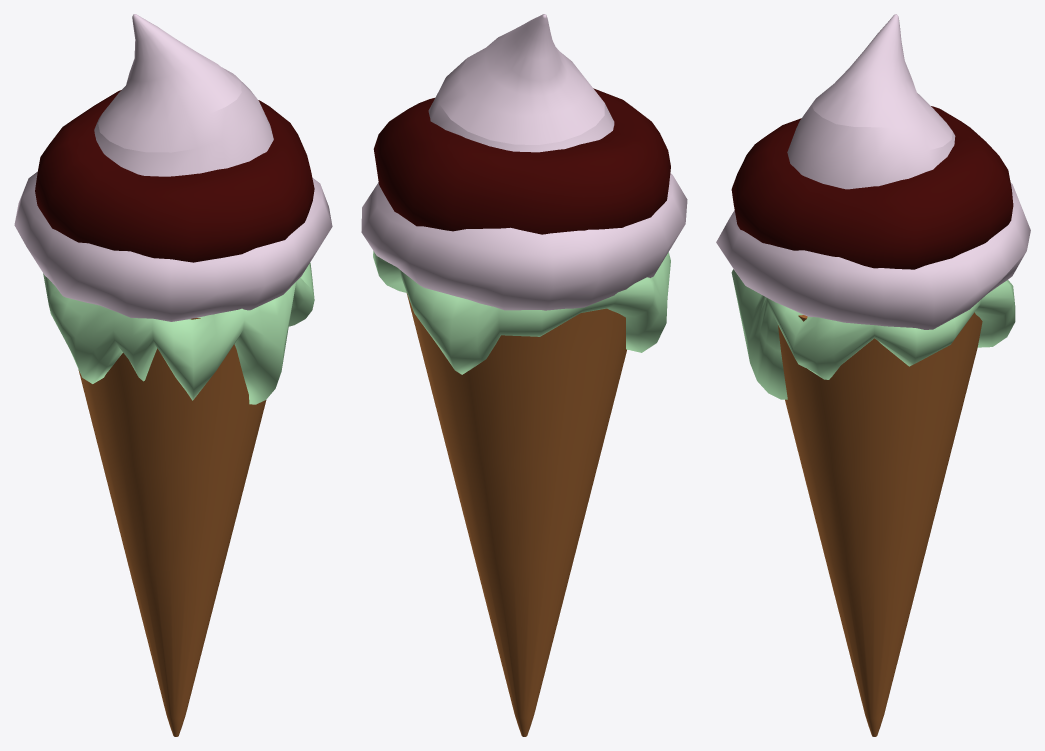
The model's file is icecream.fbx.
The picture shows the model from 3 angles, left to right: view 1: azimuth 30°, elevation 25°; view 2: azimuth 150°, elevation 25°; view 3: azimuth 270°, elevation 25°; orthographic projection. The views are drawn at different scales.
Parts seen in each view (by area): view 1: cornet2; view 2: cornet2; view 3: cornet2.
Part boxes in pixels (box(x1,y1,x2,y2)): cornet2: box(14, 14, 332, 736); cornet2: box(361, 14, 687, 736); cornet2: box(716, 14, 1030, 736).
Bounding box in the file's own units: 11.36 × 28.74 × 11.6.
